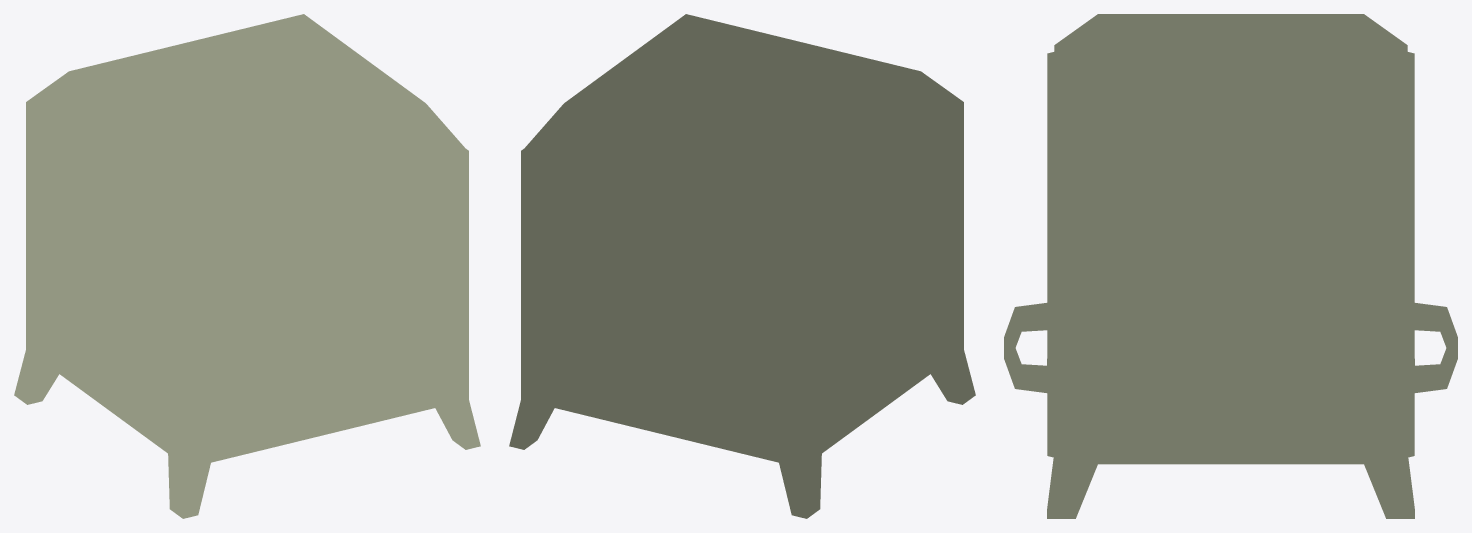
File: safe.dae
The picture shows the model from 3 angles, left to right: view 1: azimuth 30°, elevation 25°; view 2: azimuth 150°, elevation 25°; view 3: azimuth 270°, elevation 25°; orthographic projection. The views are drawn at different scales.
Visible parts, largest first — view 1: cube1-0; view 2: cube1-0; view 3: cube1-0.
Part boxes in pixels (bbox=[...]): cube1-0: bbox=[14, 14, 480, 518]; cube1-0: bbox=[509, 14, 975, 518]; cube1-0: bbox=[1004, 14, 1457, 518].
Size of the model in its own units: 97.85 by 102 by 116.
